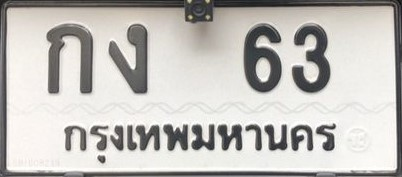txt01: (44, 21, 95, 95)
txt05: (107, 21, 150, 96)
